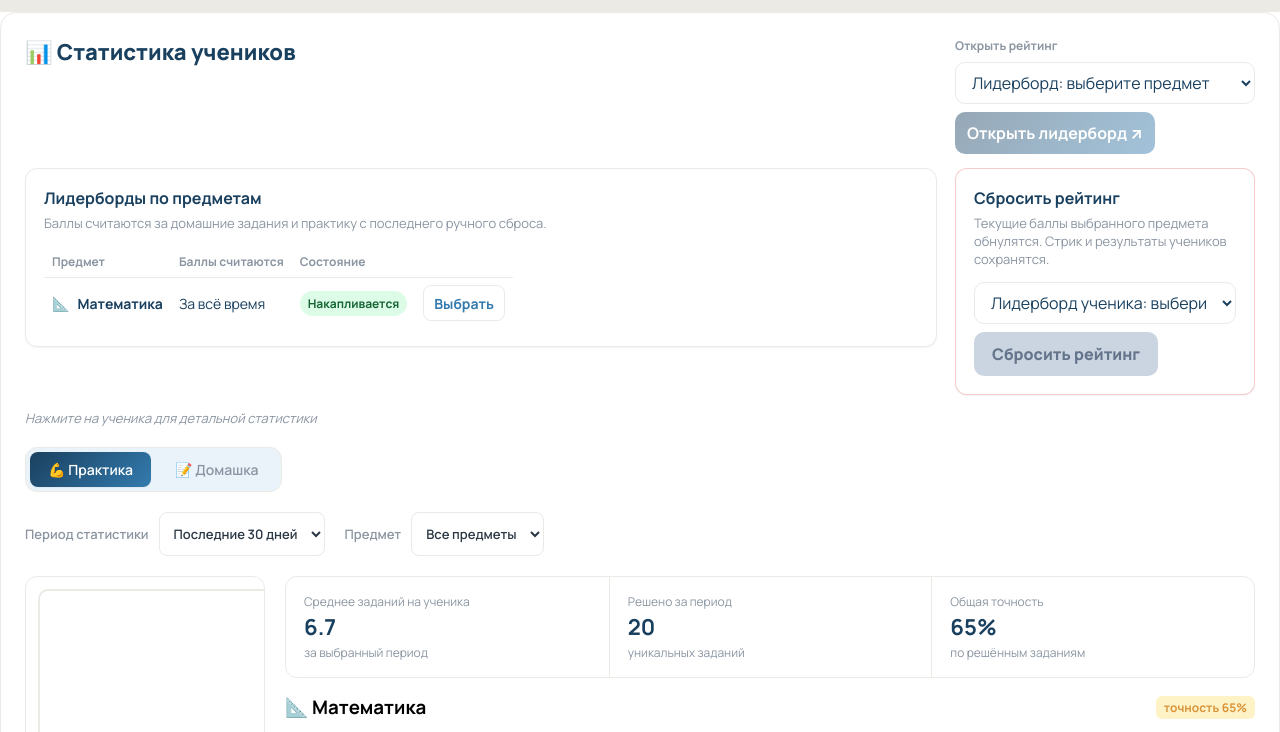
it: преподаватель видит общую практику, статистику ДЗ и частые ошибки
This screenshot has width=1280, height=732.
Expected: the text "Среднее заданий на ученика" is shown, 304,593 -> 470,610
Click the button "📝 Домашка" at (217, 470), box 157,452 -> 276,487
(page scrolled)
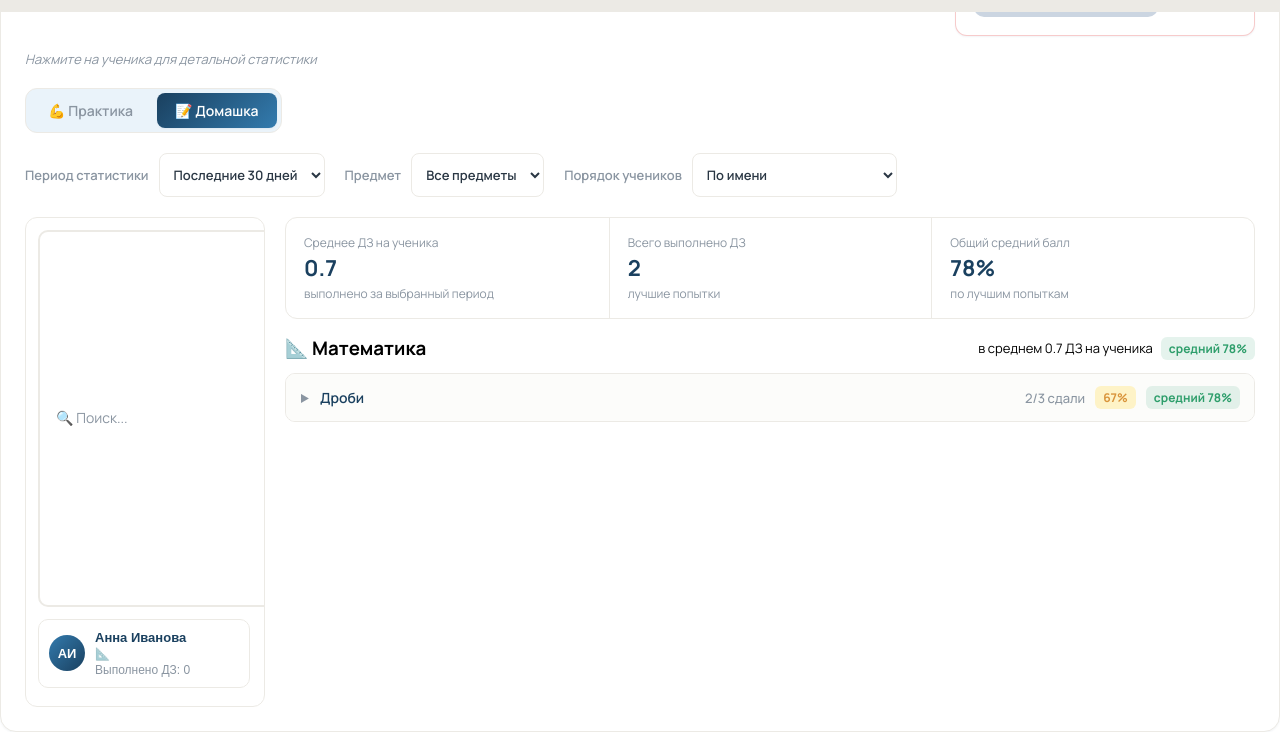
Result: the text "Общий средний балл" is shown at 950,234 -> 1070,251
Result: the text "78%" is shown at 950,253 -> 995,283
Click the button "▶ Дроби 2/3 сдали 67% средний 78%" at (342, 398), box 286,374 -> 1254,421
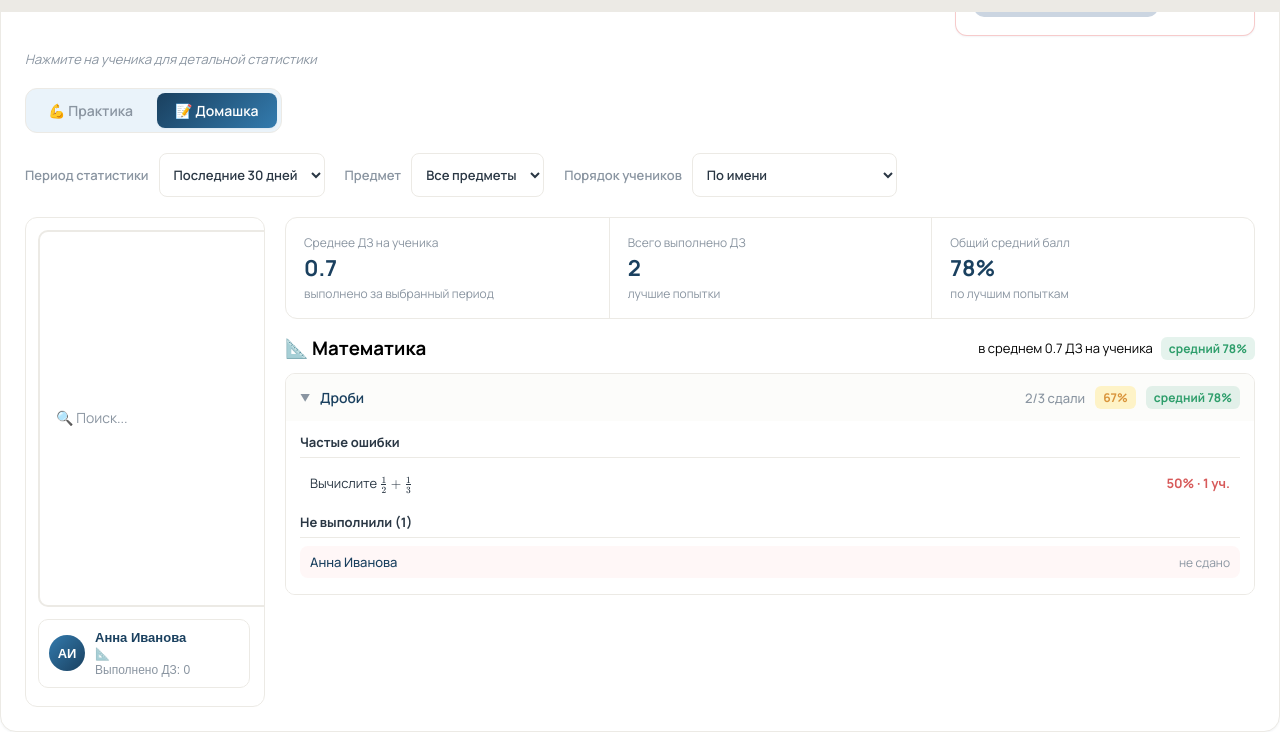
Result: the text "Частые ошибки" is shown at 300,433 -> 1240,458
Result: the element with class "katex" is shown at 380,476 -> 412,492
